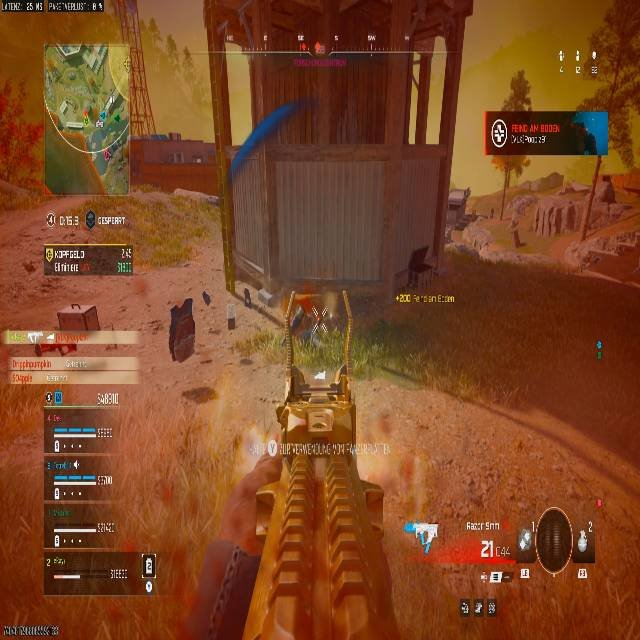head: (516, 68, 525, 80)
player: (507, 70, 532, 113), (508, 217, 522, 247)
